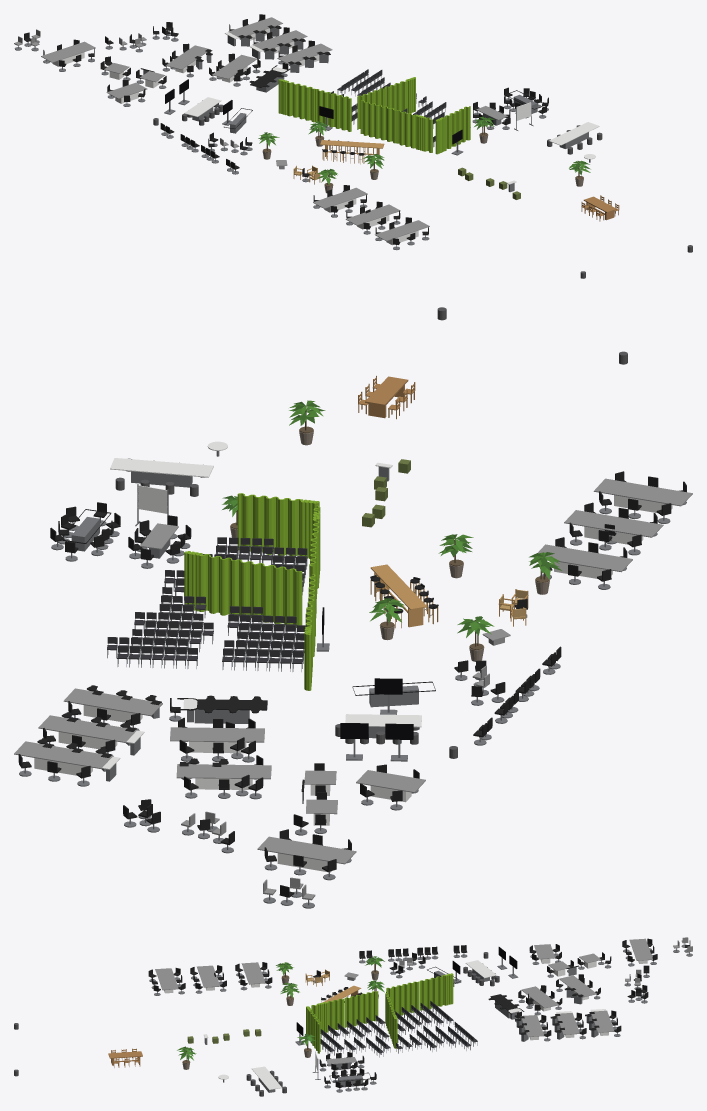
The model's file is mobilier-574.glb.
3 views of the same model, one above another, from view 1: azimuth 30°, elevation 25°; view 2: azimuth 150°, elevation 25°; view 3: azimuth 270°, elevation 25° (orthographic). The views are drawn at different scales.
Parts seen in each view (by area): view 1: Mob_Rideau_C_ferme, Mob_Rideau_A_ferme, Mob_Rideau_B_ferme, Mob_Rideau_D_ferme, Mob_Ilot_Bureaux_3_corps, Mob_Ilot_Bureaux_6_corps, Mob_Ilot_Bureaux_2_corps, Mob_Ilot_Bureaux_4_corps, Mob_Chaises_Vitres, Mob_Table_4_corps, Mob_Table_6_corps, Mob_Table_10_corps (+10 smaller); view 2: Mob_Rideau_B_ferme, Mob_Rideau_D_ferme, Mob_Rang_01, Mob_Ilot_Bureaux_6_corps, Mob_Ilot_Bureaux_3_corps, Mob_Ilot_Bureaux_2_corps, Mob_Ilot_Bureaux_4_corps, Mob_Tables_Terrasse_corps, Mob_Ilot_Bureaux_1_corps, Mob_Table_4_corps, Mob_Table_10_corps, Mob_Table_8_corps (+19 smaller); view 3: Mob_Rideau_A_ferme, Mob_Rideau_C_ferme, Mob_Chaises_Vitres, Mob_Ilot_Bureaux_6_corps, Mob_Ilot_Bureaux_3_corps, Mob_Ilot_Bureaux_2_corps, Mob_Ilot_Bureaux_4_corps, Mob_Table_1, Mob_Ilot_Bureaux_1_corps, Mob_Table_8_corps, Mob_Rideau_D_ferme, Mob_Table_6_corps (+23 smaller).
Boxes of the visible parts, x1=… form: Mob_Rideau_C_ferme: x1=360, y1=100, x2=432, y2=152; Mob_Rideau_A_ferme: x1=279, y1=79, x2=351, y2=131; Mob_Rideau_B_ferme: x1=357, y1=77, x2=415, y2=129; Mob_Rideau_D_ferme: x1=435, y1=106, x2=470, y2=153; Mob_Ilot_Bureaux_3_corps: x1=249, y1=30, x2=307, y2=59; Mob_Ilot_Bureaux_6_corps: x1=225, y1=17, x2=282, y2=46; Mob_Ilot_Bureaux_2_corps: x1=277, y1=43, x2=332, y2=72; Mob_Ilot_Bureaux_4_corps: x1=165, y1=45, x2=212, y2=73; Mob_Chaises_Vitres: x1=160, y1=123, x2=239, y2=174; Mob_Table_4_corps: x1=375, y1=220, x2=429, y2=245; Mob_Table_6_corps: x1=313, y1=187, x2=367, y2=212; Mob_Table_10_corps: x1=41, y1=41, x2=95, y2=66; Mob_Rideau_B_ferme: x1=185, y1=551, x2=302, y2=627; Mob_Rideau_D_ferme: x1=237, y1=493, x2=318, y2=555; Mob_Rang_01: x1=117, y1=645, x2=302, y2=671; Mob_Ilot_Bureaux_6_corps: x1=14, y1=738, x2=120, y2=781; Mob_Ilot_Bureaux_3_corps: x1=38, y1=712, x2=144, y2=755; Mob_Ilot_Bureaux_2_corps: x1=63, y1=685, x2=162, y2=722; Mob_Ilot_Bureaux_4_corps: x1=176, y1=758, x2=271, y2=789; Mob_Tables_Terrasse_corps: x1=110, y1=458, x2=213, y2=487; Mob_Ilot_Bureaux_1_corps: x1=176, y1=695, x2=267, y2=723; Mob_Table_4_corps: x1=593, y1=478, x2=692, y2=513; Mob_Table_10_corps: x1=257, y1=836, x2=356, y2=872; Mob_Table_8_corps: x1=170, y1=727, x2=264, y2=753; Mob_Rideau_A_ferme: x1=386, y1=973, x2=453, y2=1015; Mob_Rideau_C_ferme: x1=311, y1=991, x2=378, y2=1032; Mob_Chaises_Vitres: x1=359, y1=945, x2=467, y2=963; Mob_Ilot_Bureaux_6_corps: x1=585, y1=1009, x2=614, y2=1037; Mob_Ilot_Bureaux_3_corps: x1=550, y1=1011, x2=579, y2=1039; Mob_Ilot_Bureaux_2_corps: x1=515, y1=1015, x2=544, y2=1041; Mob_Ilot_Bureaux_4_corps: x1=559, y1=975, x2=596, y2=1004; Mob_Table_1: x1=324, y1=1068, x2=376, y2=1092; Mob_Ilot_Bureaux_1_corps: x1=488, y1=994, x2=524, y2=1019; Mob_Table_8_corps: x1=521, y1=986, x2=558, y2=1011; Mob_Rideau_D_ferme: x1=307, y1=1006, x2=320, y2=1053; Mob_Table_6_corps: x1=241, y1=962, x2=265, y2=987.
Bounding box in the file's own units: 30.54 × 2.75 × 57.41.
